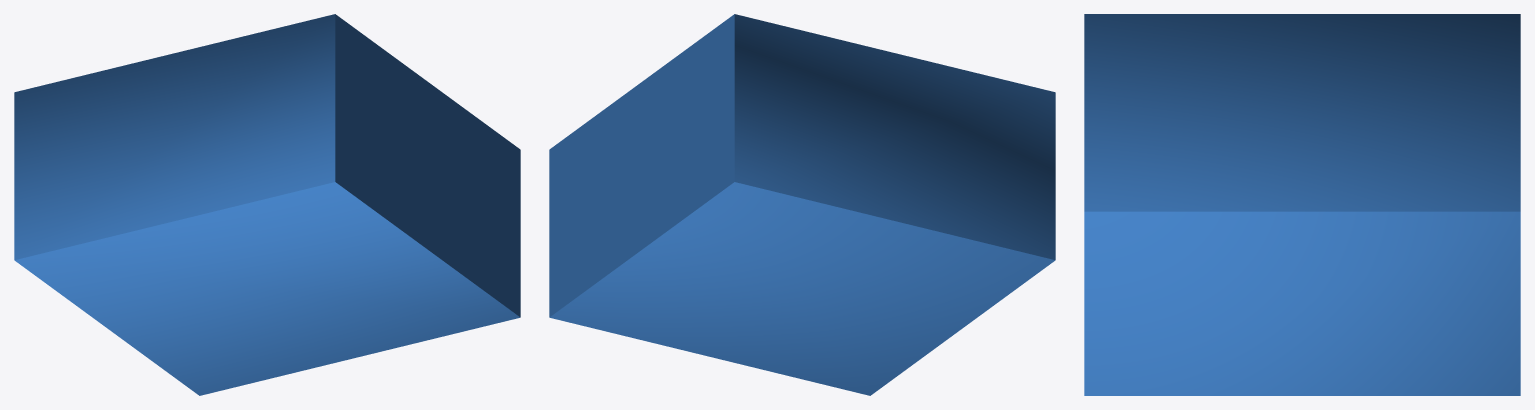
The model's file is r6c5_border_blue.gltf.
3 renders of one model, left to right at view 1: azimuth 30°, elevation 25°; view 2: azimuth 150°, elevation 25°; view 3: azimuth 270°, elevation 25°, orthographic. The views are drawn at different scales.
Parts seen in each view (by area): view 1: r6c5_border_blue; view 2: r6c5_border_blue; view 3: r6c5_border_blue.
Part boxes in pixels (<box>): r6c5_border_blue: <box>14,14,520,395</box>; r6c5_border_blue: <box>549,14,1055,395</box>; r6c5_border_blue: <box>1084,14,1520,395</box>.
Bounding box in the file's own units: 2.1 × 1.05 × 2.1.
Materials: 1 (1 with a texture image).
